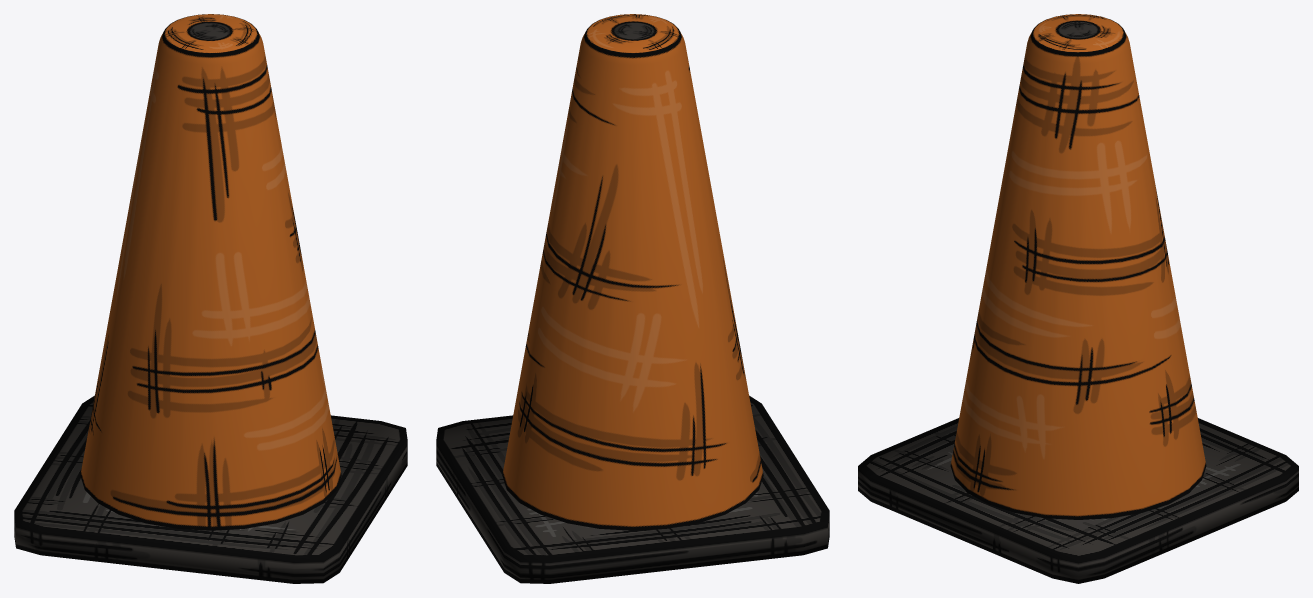
The model's file is TrafficCone1.FBX.
3 views of the same model, side by side, from view 1: azimuth 30°, elevation 25°; view 2: azimuth 150°, elevation 25°; view 3: azimuth 270°, elevation 25° (orthographic). The views are drawn at different scales.
Visible parts, largest first — view 1: Cone; view 2: Cone; view 3: Cone.
Part boxes in pixels (box(x1,y1,x2,y2)): Cone: box(14, 14, 407, 583); Cone: box(436, 14, 829, 583); Cone: box(858, 14, 1298, 583).
Bounding box in the file's own units: 59.53 × 68.56 × 59.53.
